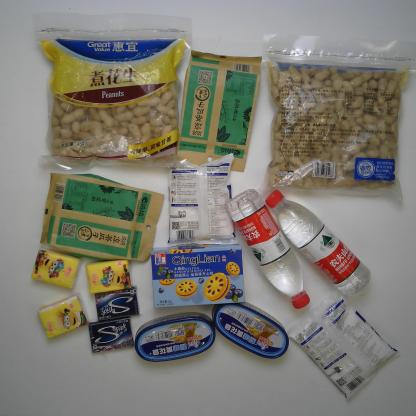Canned Food: (214, 299, 290, 358), (133, 312, 216, 363)
Dessert: (152, 242, 246, 309)
Dried Food: (256, 31, 414, 208), (34, 20, 193, 178), (42, 170, 169, 263), (175, 49, 263, 174)
Drink: (265, 190, 371, 294), (229, 188, 309, 308)
Gum: (94, 284, 140, 322), (88, 318, 134, 354)
Seasoner: (287, 290, 400, 404), (167, 154, 241, 246)
Tissue: (38, 295, 88, 340), (31, 248, 80, 289), (88, 258, 132, 298)
